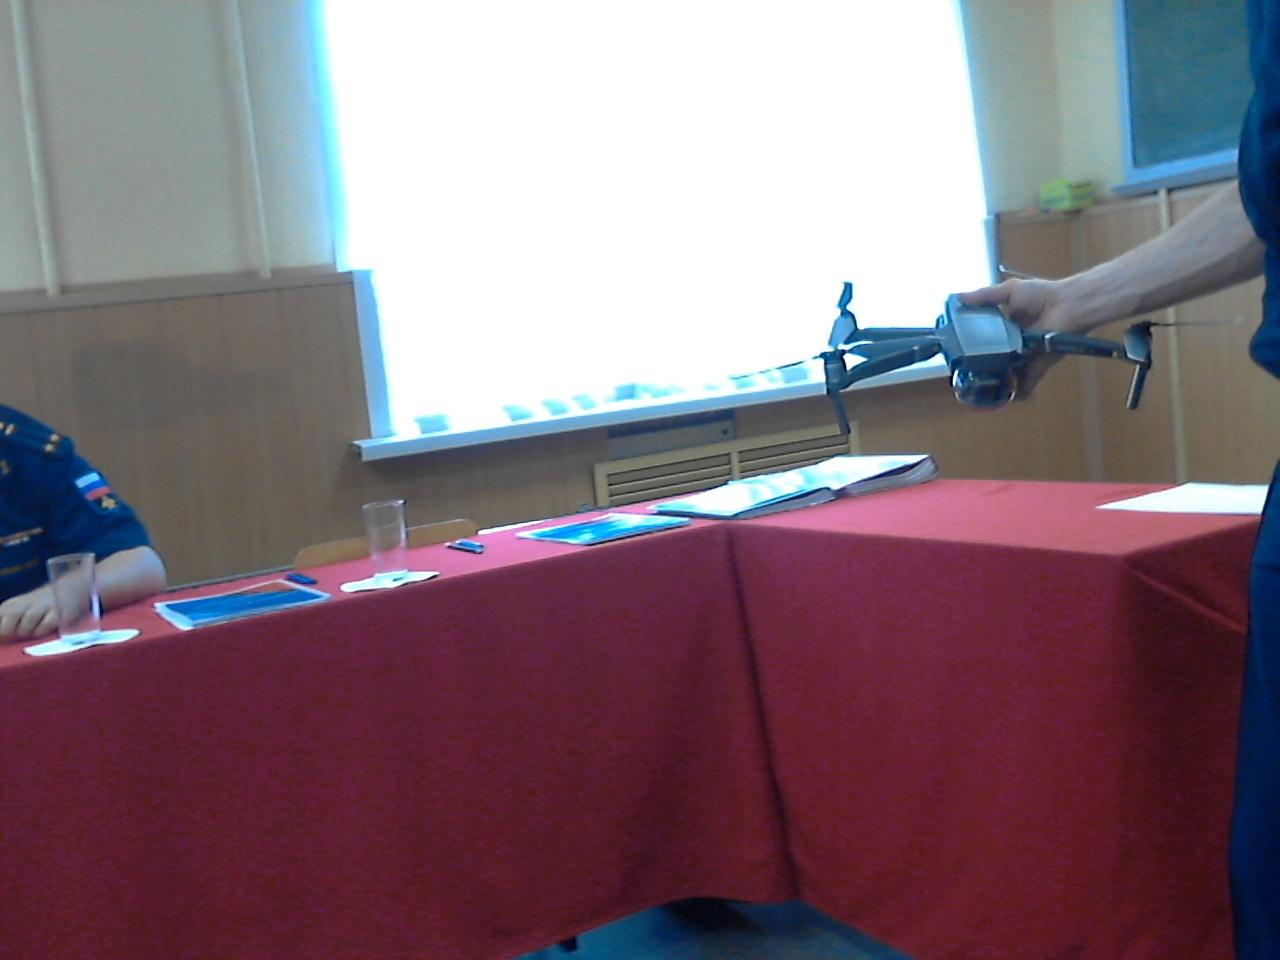drone: (798, 256, 1188, 413)
